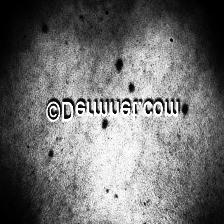Non-Cancerous Skin Condition: (46, 114, 130, 176), (111, 52, 147, 92)
